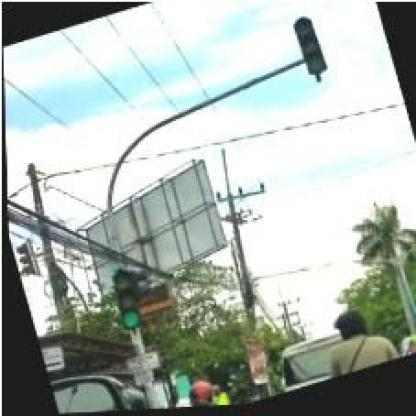green: (102, 268, 140, 333), (290, 16, 326, 79)
